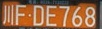F: (16, 5, 26, 25)
